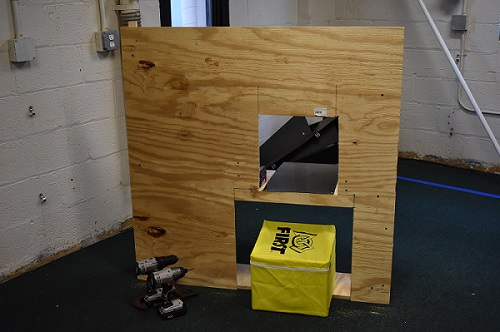cube: (249, 219, 336, 318)
